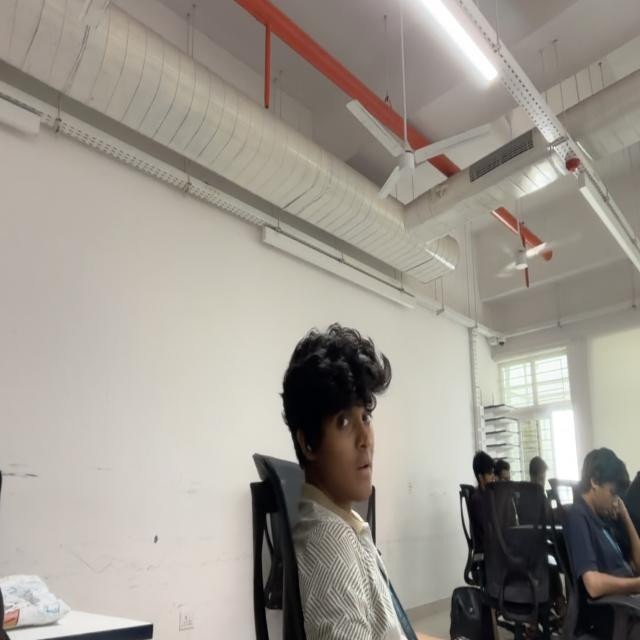kshitij: (284, 325, 392, 504)
